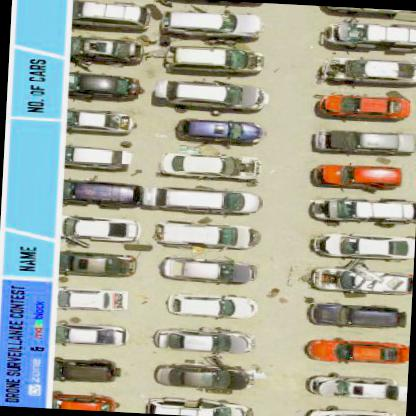car: (152, 78, 266, 109), (146, 186, 263, 216), (318, 55, 415, 90), (307, 264, 412, 296), (309, 195, 416, 226), (302, 337, 408, 367), (311, 128, 415, 158), (310, 232, 414, 262), (322, 20, 415, 53), (150, 326, 254, 354), (315, 91, 411, 121), (159, 10, 261, 38), (155, 220, 257, 248), (310, 161, 402, 192), (306, 372, 406, 400), (164, 46, 263, 74), (160, 152, 258, 180), (150, 361, 248, 389), (306, 302, 403, 330), (160, 256, 256, 284), (172, 117, 264, 144), (164, 291, 254, 318), (145, 394, 255, 415), (72, 0, 150, 28), (68, 72, 140, 100), (62, 181, 141, 204), (52, 358, 117, 385), (62, 216, 140, 238), (71, 36, 142, 60), (61, 254, 138, 276), (55, 322, 128, 345), (67, 108, 133, 132), (58, 288, 126, 310), (64, 146, 131, 168), (50, 393, 116, 410), (305, 405, 405, 415)
